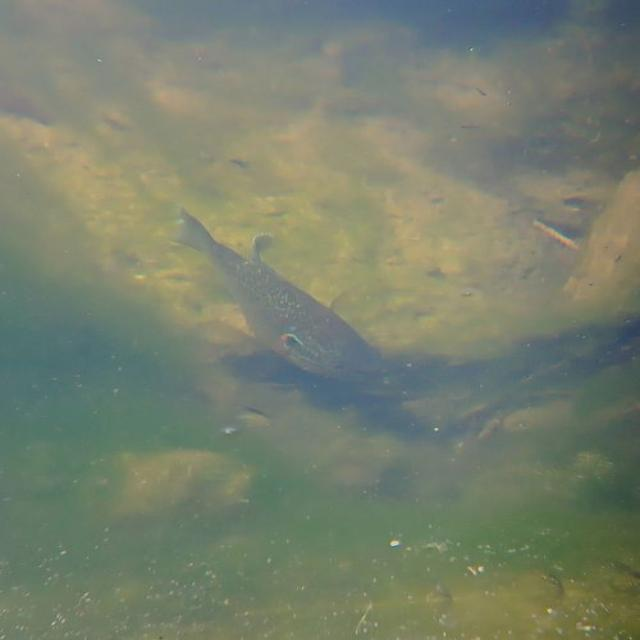Gunes Levregi: (163, 204, 398, 396)
